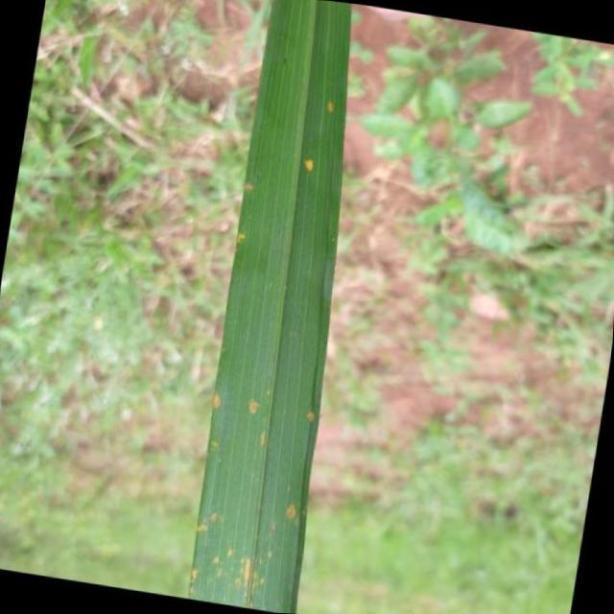Kalium: (192, 0, 353, 614)
